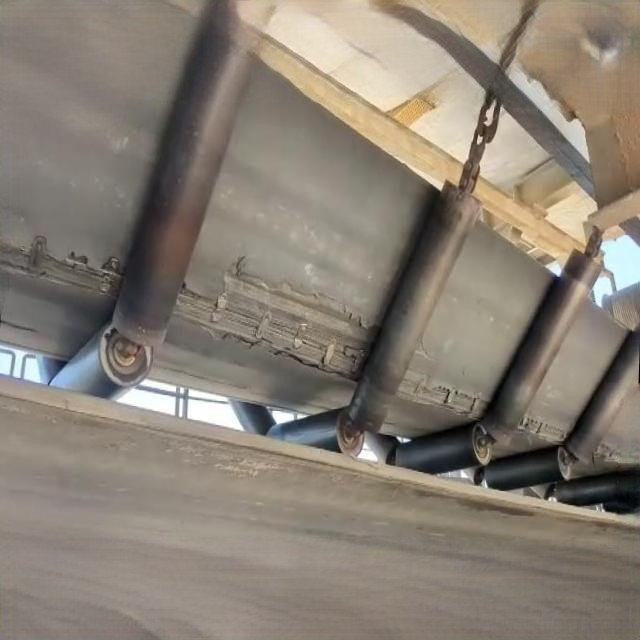Tear: (175, 252, 377, 389), (6, 222, 125, 300), (398, 364, 489, 424), (522, 407, 569, 447)
